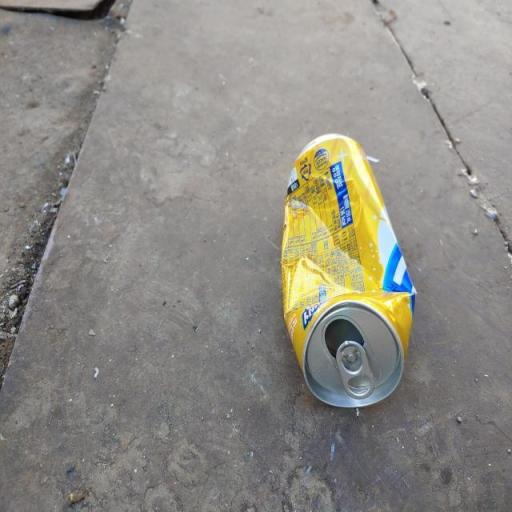metal: (267, 118, 429, 431)
